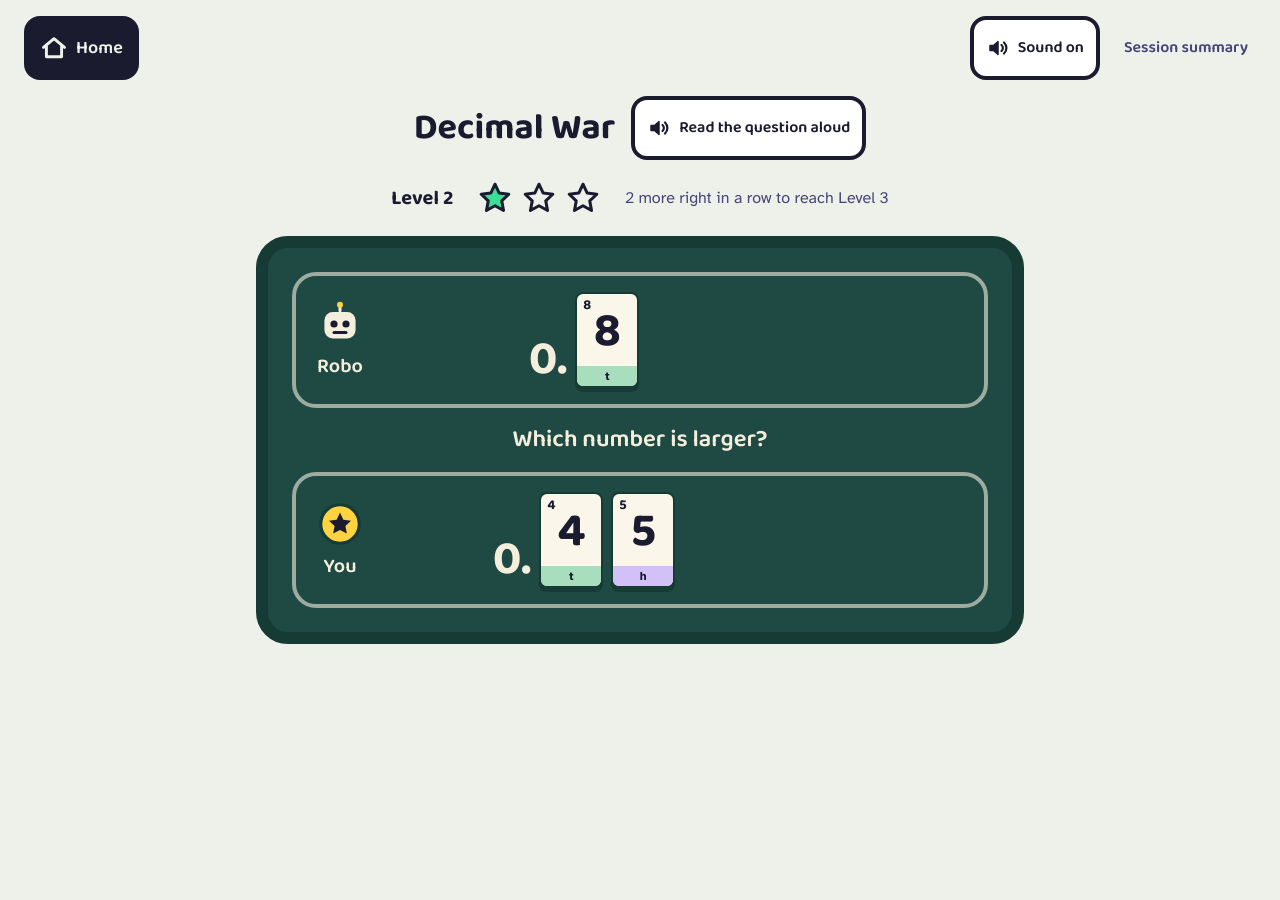
Test: a correct pick says Correct! and fills a star
The width and height of the screenshot is (1280, 900).
Click the button with aria-label "Robo's number, 0.8".
click(640, 340)  # box [292,272,988,408]
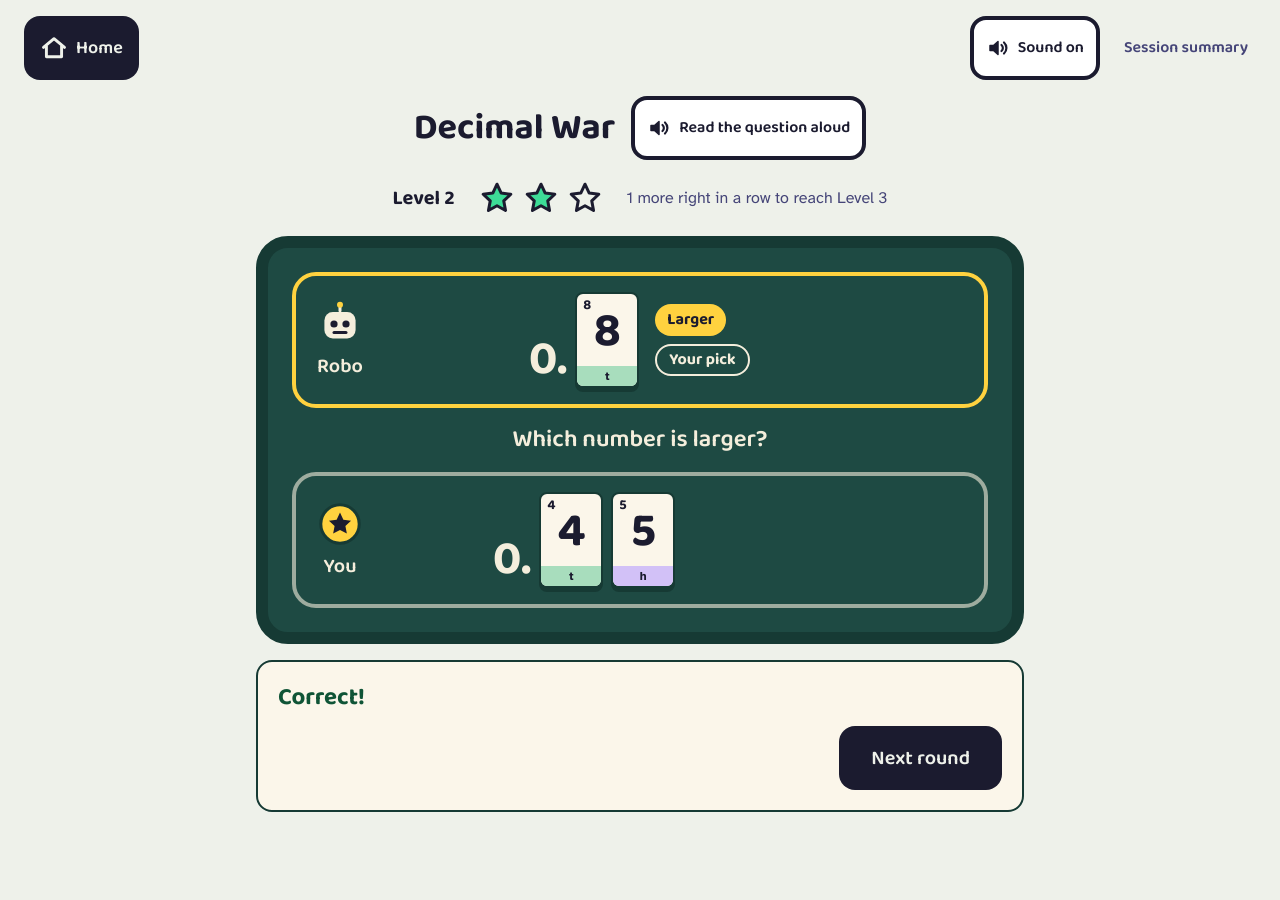
Result: the text "Correct!" is shown at [278,678,365,717]
Result: the picture named "2 of 3 stars" is shown at [470,176,610,220]
Result: the button "Next round" is shown at [839,726,1002,790]
